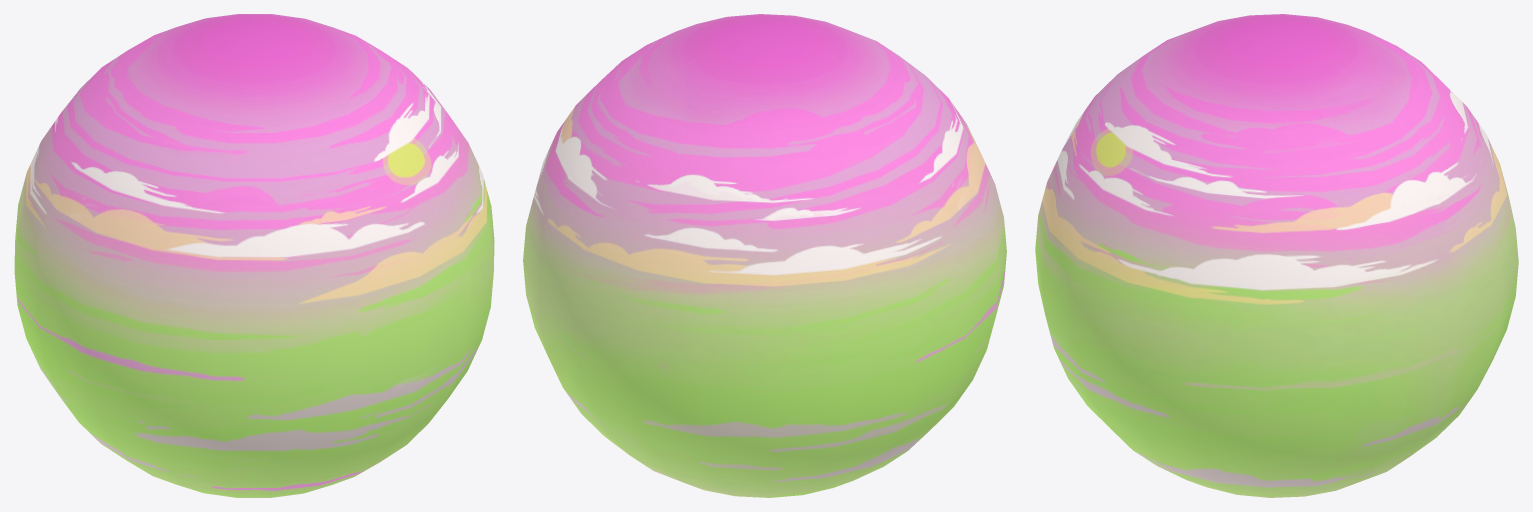
Rendered from SM_Arena.glb.
3 renders of one model, left to right at view 1: azimuth 30°, elevation 25°; view 2: azimuth 150°, elevation 25°; view 3: azimuth 270°, elevation 25°, orthographic.
Visible parts, largest first — view 1: SM_Arena_01; view 2: SM_Arena_01; view 3: SM_Arena_01.
Part boxes in pixels (box(x1,y1,x2,y2)): SM_Arena_01: box(14, 14, 494, 497); SM_Arena_01: box(523, 14, 1006, 497); SM_Arena_01: box(1035, 14, 1518, 497).
Size of what is drawn, in the model's own units: 350 by 351 by 350.
7 materials, 5 textured.
